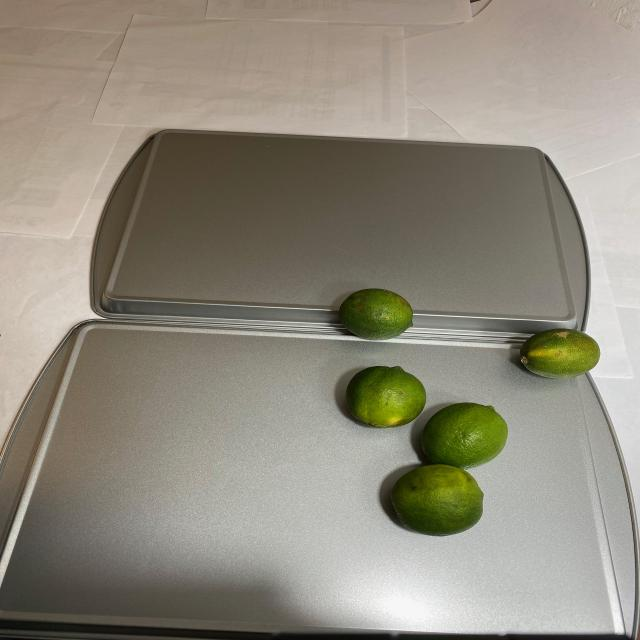lemon: (328, 280, 507, 538), (514, 329, 603, 376)
